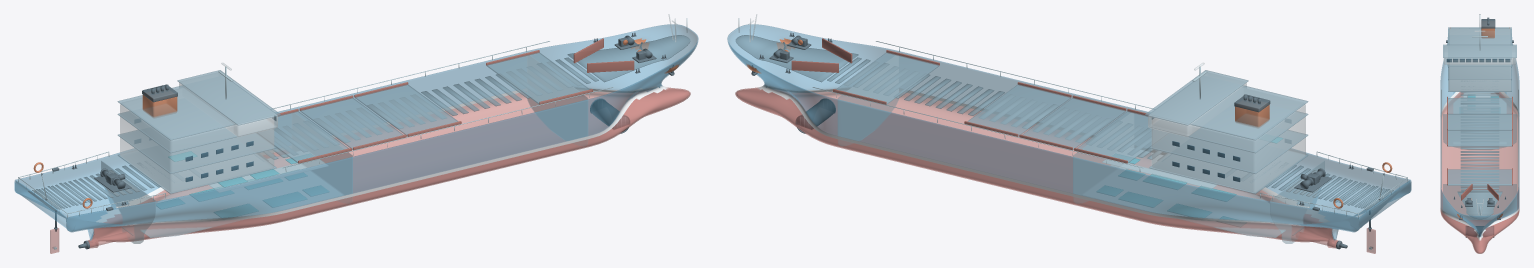
File: blender-hull-V6.glb
3 views of the same model, side by side, from view 1: azimuth 30°, elevation 25°; view 2: azimuth 150°, elevation 25°; view 3: azimuth 270°, elevation 25° (orthographic). The views are drawn at different scales.
Visible parts, largest first — view 1: ShipHull, Accommodation_Block, EngineRoom_Conforming_TankTop, House_Deck_4, Navigation_Bridge_Wings, House_Deck_1, CargoBay_Pad_3, CargoBay_Pad_4, CargoBay_Pad_2, House_Deck_2, Bridge_Roof_Visor, CargoBay_Pad_1 (+10 smaller); view 2: ShipHull, Accommodation_Block, EngineRoom_Conforming_TankTop, House_Deck_4, Navigation_Bridge_Wings, House_Deck_2, House_Deck_1, CargoBay_Pad_3, CargoBay_Pad_4, CargoBay_Pad_2, Bridge_Roof_Visor, CargoBay_Pad_1 (+10 smaller); view 3: ShipHull, Accommodation_Block, Watertight_Bulkhead_3, House_Deck_4, Navigation_Bridge_Wings, CargoBay_Pad_2, CargoBay_Pad_3, CargoBay_Pad_4, Bridge_Roof_Visor, CargoBay_Pad_1, House_Deck_1, House_Deck_2 (+11 smaller).
Part boxes in pixels (<box>): ShipHull: <box>14,24,698,243</box>; Accommodation_Block: <box>120,88,274,192</box>; EngineRoom_Conforming_TankTop: <box>141,163,342,237</box>; House_Deck_4: <box>117,82,275,140</box>; Navigation_Bridge_Wings: <box>179,73,277,136</box>; House_Deck_1: <box>117,150,276,194</box>; CargoBay_Pad_3: <box>355,84,458,136</box>; CargoBay_Pad_4: <box>486,52,589,104</box>; CargoBay_Pad_2: <box>300,97,403,149</box>; House_Deck_2: <box>117,130,276,173</box>; Bridge_Roof_Visor: <box>177,70,280,125</box>; CargoBay_Pad_1: <box>258,111,348,163</box>; ShipHull: <box>727,24,1411,243</box>; Accommodation_Block: <box>1151,88,1305,192</box>; EngineRoom_Conforming_TankTop: <box>1083,163,1284,237</box>; House_Deck_4: <box>1150,82,1308,140</box>; Navigation_Bridge_Wings: <box>1148,73,1246,136</box>; House_Deck_2: <box>1149,130,1308,173</box>; House_Deck_1: <box>1149,150,1308,194</box>; CargoBay_Pad_3: <box>967,84,1070,136</box>; CargoBay_Pad_4: <box>836,52,939,104</box>; CargoBay_Pad_2: <box>1022,97,1125,149</box>; Bridge_Roof_Visor: <box>1145,70,1248,125</box>; CargoBay_Pad_1: <box>1077,111,1167,163</box>; ShipHull: <box>1440,37,1519,253</box>; Accommodation_Block: <box>1449,29,1510,90</box>; Watertight_Bulkhead_3: <box>1443,184,1516,219</box>; House_Deck_4: <box>1448,27,1511,59</box>; Navigation_Bridge_Wings: <box>1443,46,1516,64</box>; CargoBay_Pad_2: <box>1448,114,1511,130</box>; CargoBay_Pad_3: <box>1448,130,1511,146</box>; CargoBay_Pad_4: <box>1448,169,1511,185</box>; Bridge_Roof_Visor: <box>1443,44,1516,57</box>; CargoBay_Pad_1: <box>1448,98,1511,113</box>; House_Deck_1: <box>1448,79,1511,91</box>; House_Deck_2: <box>1448,67,1511,79</box>.
Size of the model in its own units: 38.67 by 8.67 by 6.7.
